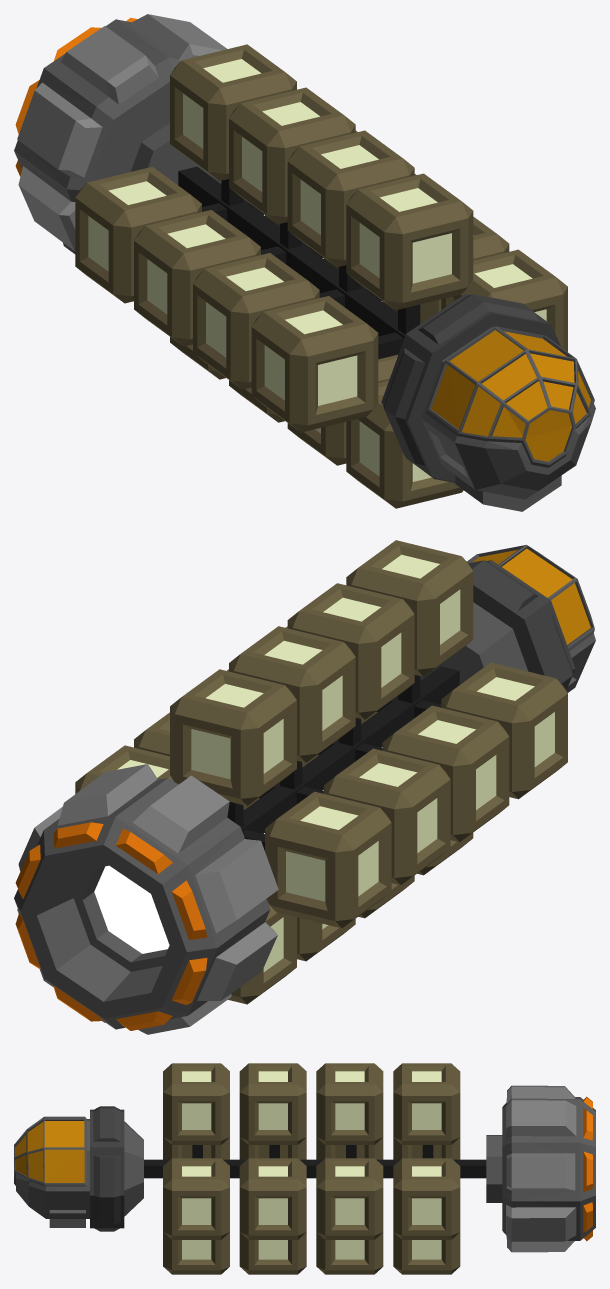
The model's file is LPSP_CargoFreighter_fixed.gltf.
The picture shows the model from 3 angles, top to bottom: view 1: azimuth 30°, elevation 25°; view 2: azimuth 150°, elevation 25°; view 3: azimuth 270°, elevation 25°; orthographic projection. The views are drawn at different scales.
Parts seen in each view (by area): view 1: Shipping Frigate; view 2: Shipping Frigate; view 3: Shipping Frigate.
Boxes of the visible parts, x1,y1,x2,y2 form: Shipping Frigate: [14, 14, 595, 511]; Shipping Frigate: [14, 540, 595, 1034]; Shipping Frigate: [14, 1063, 595, 1274].
Size of the model in its own units: 19.16 by 19.16 by 53.15.
2 materials, 1 textured.
